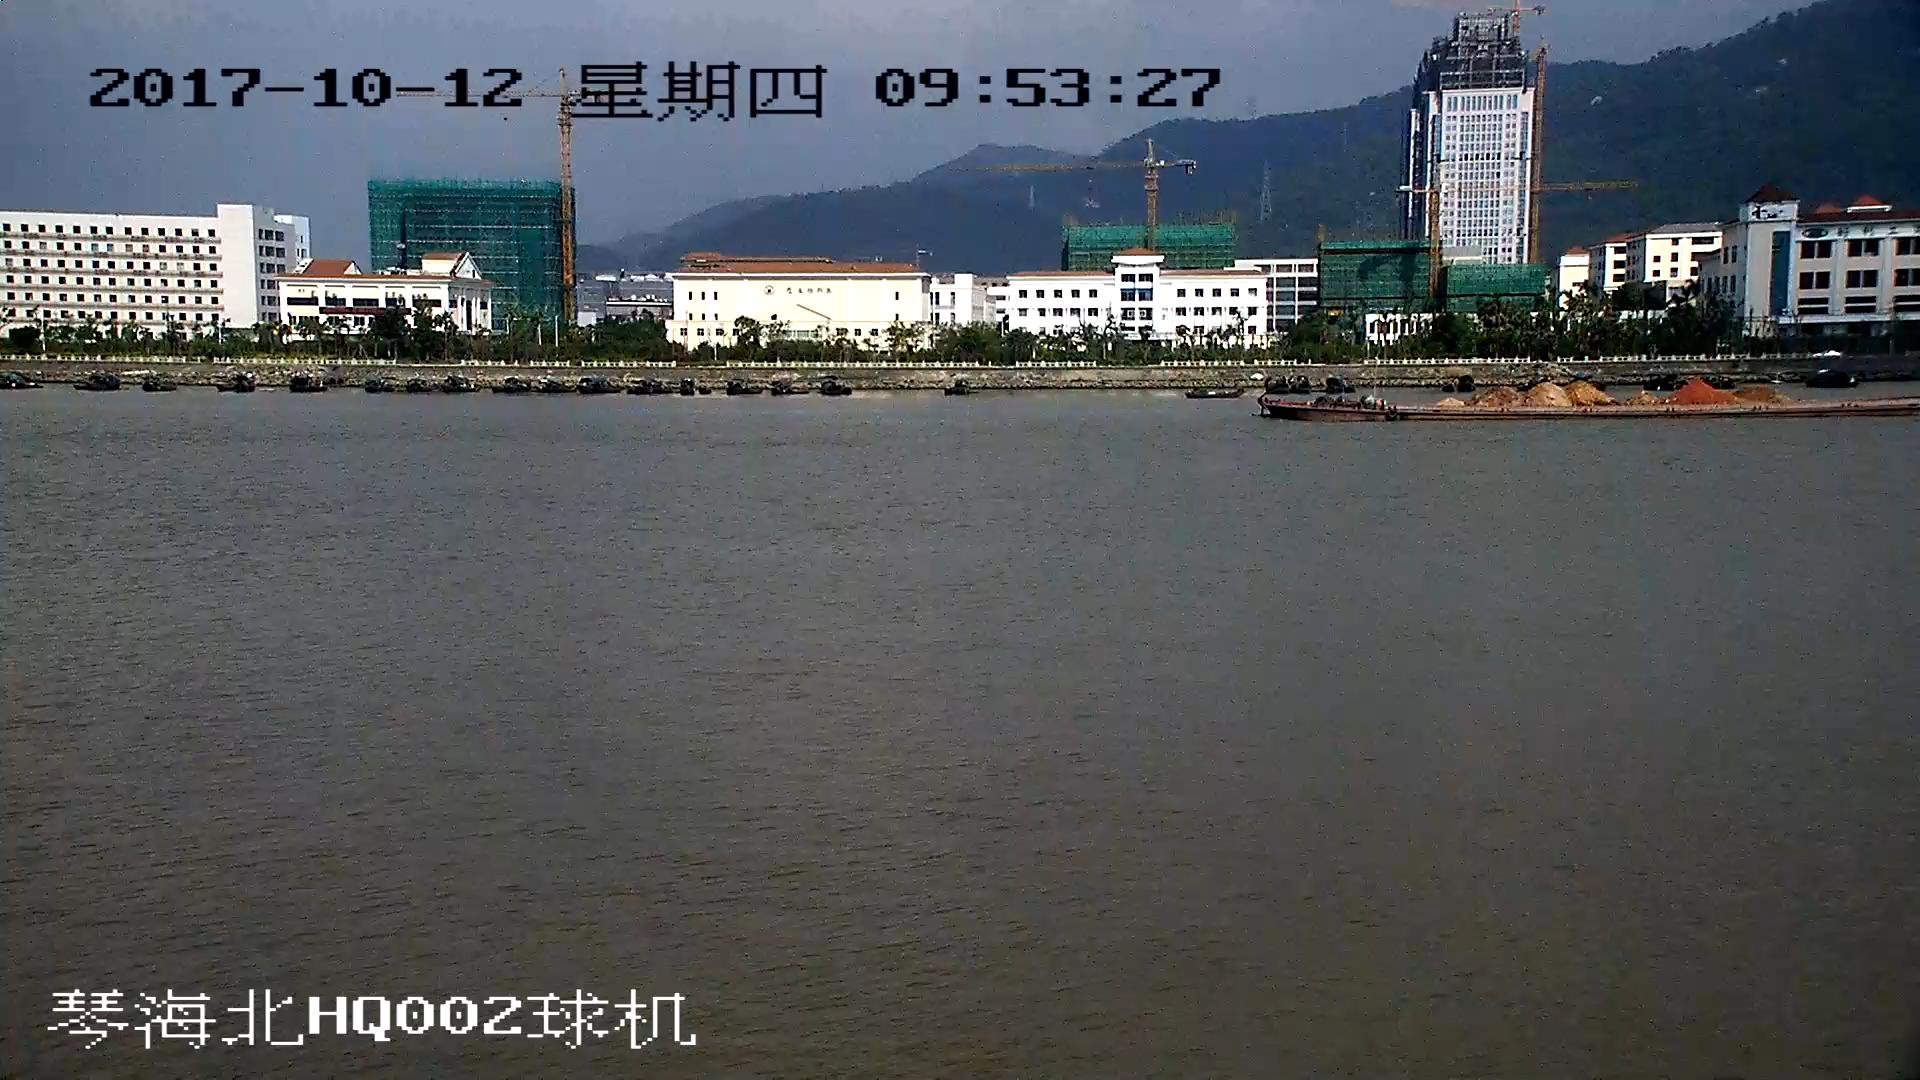ore carrier: (1265, 381, 1920, 419)
